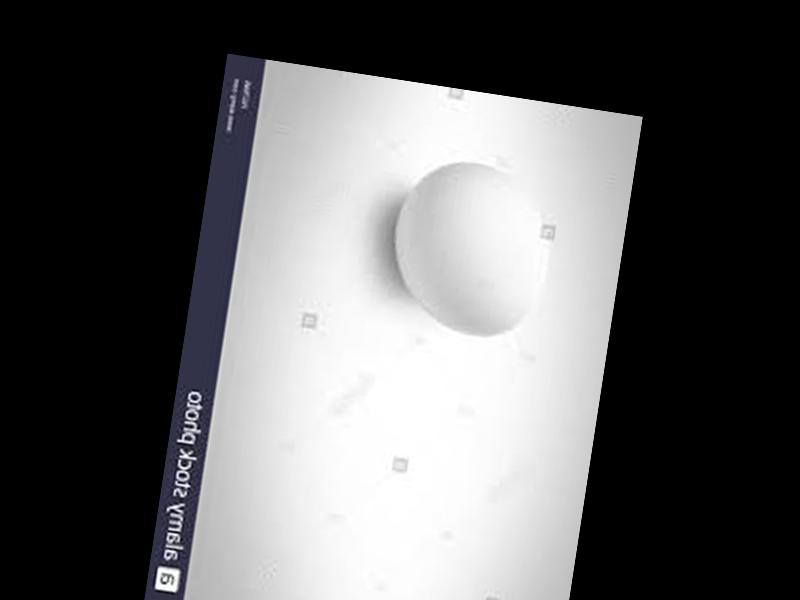Eggs: (381, 150, 559, 342)
